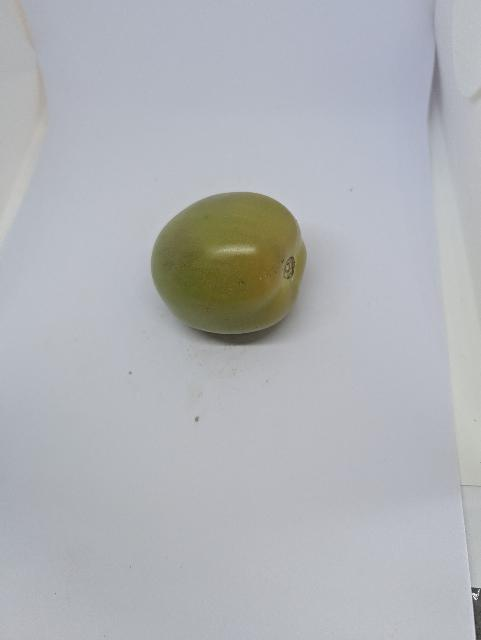green: (141, 187, 324, 352)
